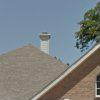Chimney: (35, 24, 54, 56)
